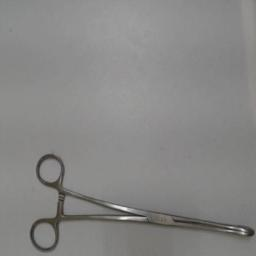Sponge Forceps: (25, 150, 255, 254)
